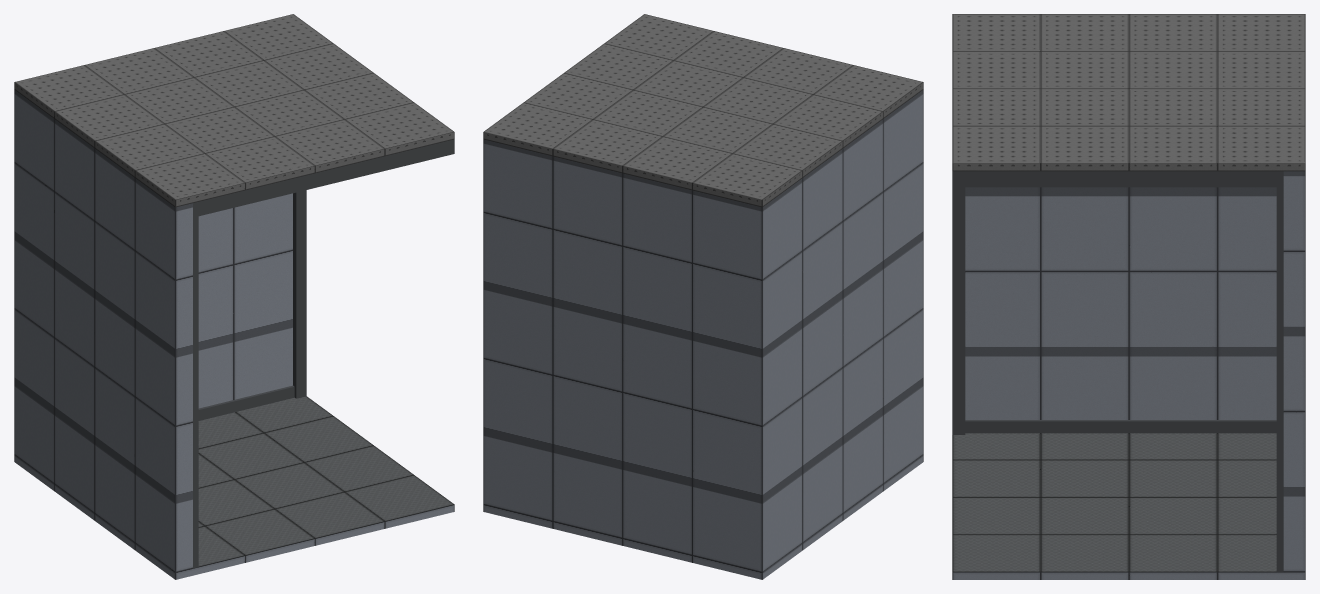
The model's file is Room_SciFi_Corner_NoLight.glb.
3 views of the same model, side by side, from view 1: azimuth 30°, elevation 25°; view 2: azimuth 150°, elevation 25°; view 3: azimuth 270°, elevation 25° (orthographic). The views are drawn at different scales.
Parts seen in each view (by area): view 1: Room_SciFi_Corner_NoLight, Room_SciFi_Corner_NoLight_Ceiling; view 2: Room_SciFi_Corner_NoLight, Room_SciFi_Corner_NoLight_Ceiling; view 3: Room_SciFi_Corner_NoLight, Room_SciFi_Corner_NoLight_Ceiling.
Part boxes in pixels (bbox=[...]): Room_SciFi_Corner_NoLight: bbox=[14, 90, 454, 579]; Room_SciFi_Corner_NoLight_Ceiling: bbox=[14, 14, 454, 216]; Room_SciFi_Corner_NoLight: bbox=[483, 90, 923, 579]; Room_SciFi_Corner_NoLight_Ceiling: bbox=[483, 14, 923, 207]; Room_SciFi_Corner_NoLight: bbox=[952, 171, 1305, 579]; Room_SciFi_Corner_NoLight_Ceiling: bbox=[952, 14, 1305, 187].
Bounding box in the file's own units: 4 × 5.2 × 4.
Materials: 5 (3 with a texture image).
